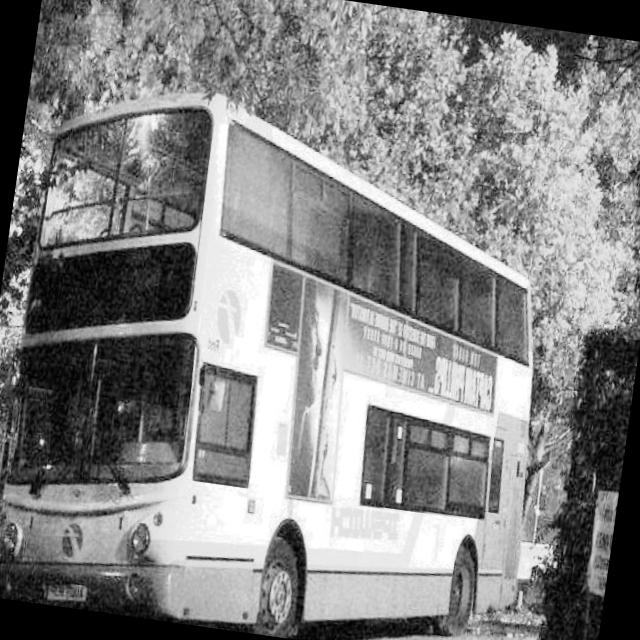Bus: (0, 58, 587, 640)
